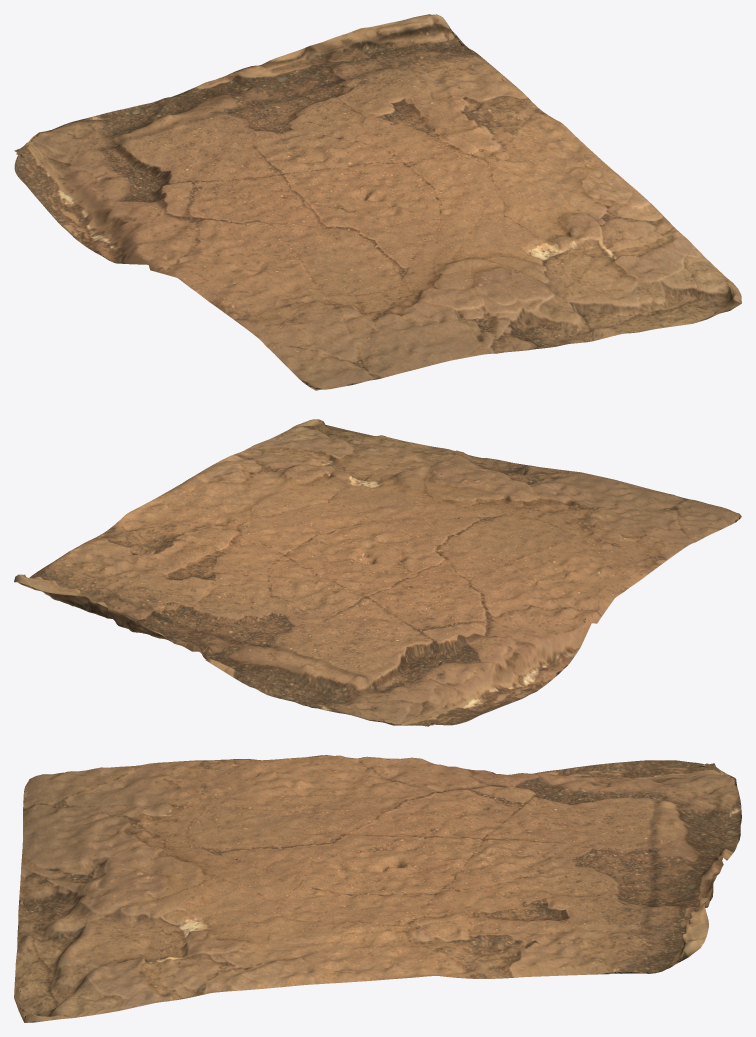
File: mars_curiosity_rover_-_sol_2463.glb
3 renders of one model, top to bottom at view 1: azimuth 30°, elevation 25°; view 2: azimuth 150°, elevation 25°; view 3: azimuth 270°, elevation 25°, orthographic. The views are drawn at different scales.
Visible parts, largest first — view 1: Object_2; view 2: Object_2; view 3: Object_2.
Boxes of the visible parts, left/top/right/bottom form: Object_2: left=14, top=14, right=741, bottom=390; Object_2: left=14, top=419, right=741, bottom=726; Object_2: left=14, top=755, right=741, bottom=1022.
Bounding box in the file's own units: 25.37 × 4.06 × 31.84.
Materials: 1 (1 with a texture image).
